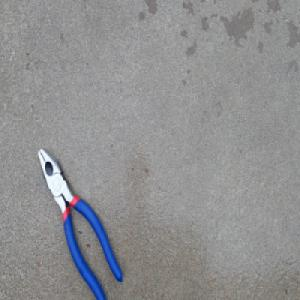Pliers: (35, 145, 122, 300)
